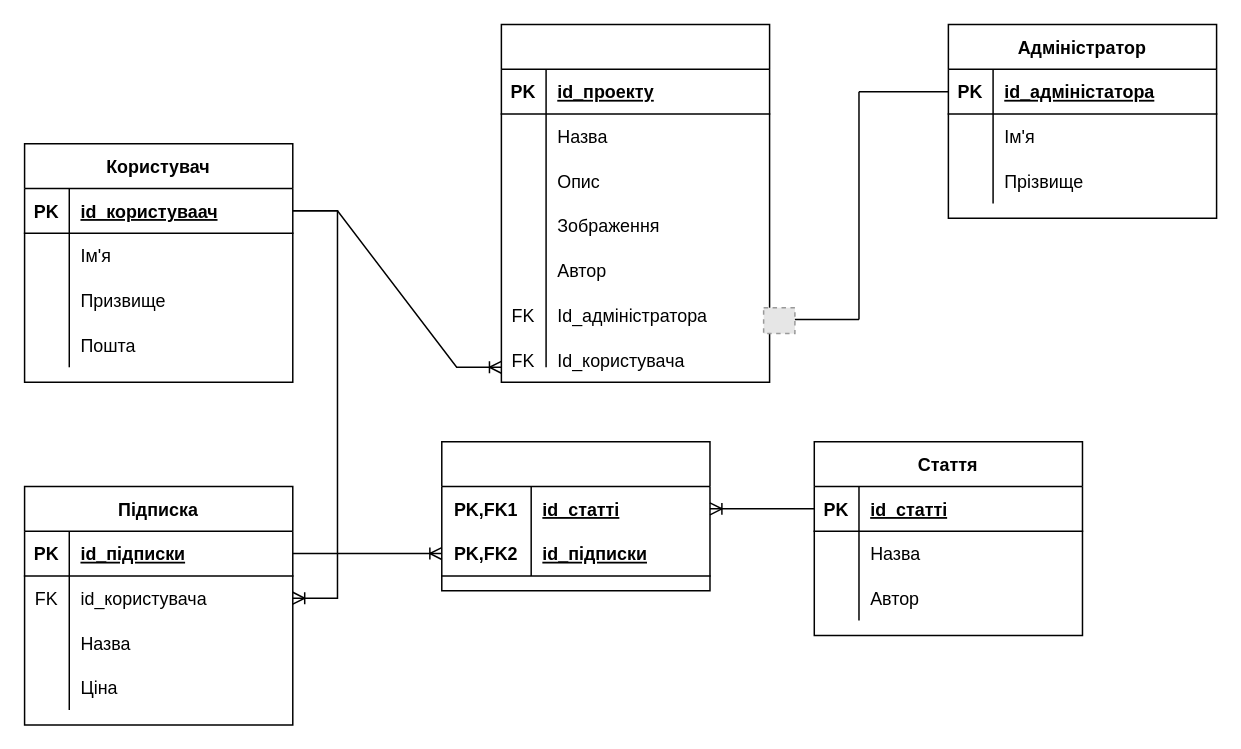
Image size: 1241x749. Some labels were removed from this diagram. Grey dashed boxes stand in for pictures. Here are the shapes that lost their labels. From the top down, the box of each, then its label:
(500, 23, 770, 382): Архітектурний проект
(440, 440, 710, 591): Список користувача
